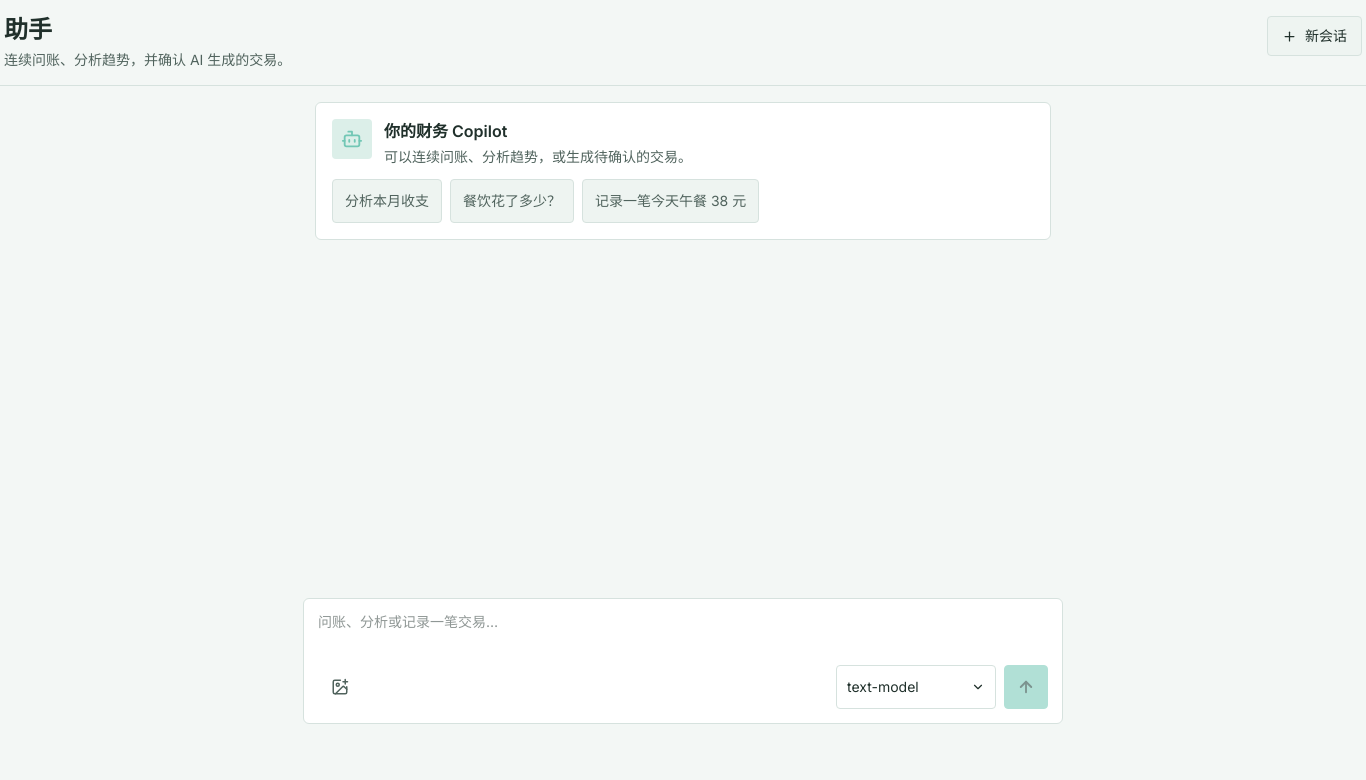
Test case: AiHubView › shows invalid candidate errors instead of silently dropping them
Type "记录错误交易" into the text box named "输入消息" at (683, 635), box [318,613,1048,657]
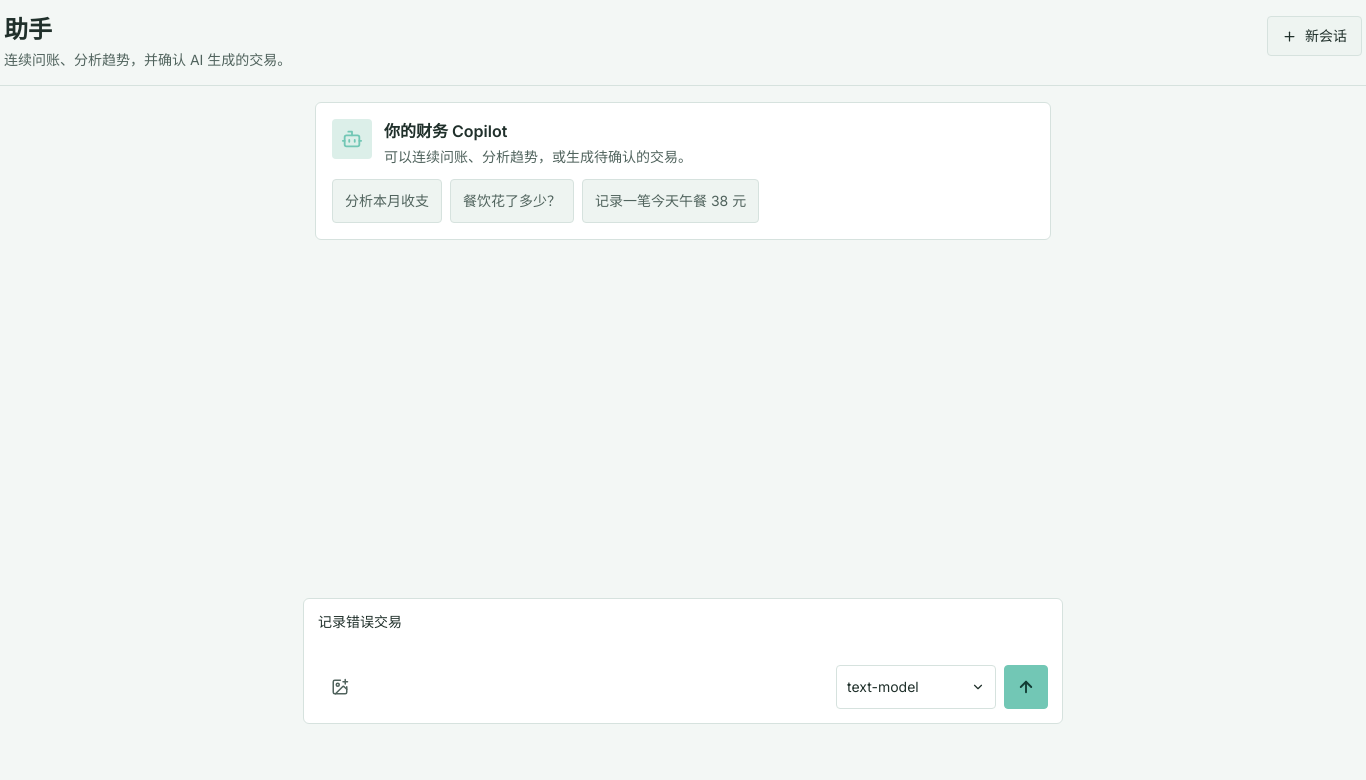
Click the button named "发送" at (1026, 687), box [1004,665,1048,709]
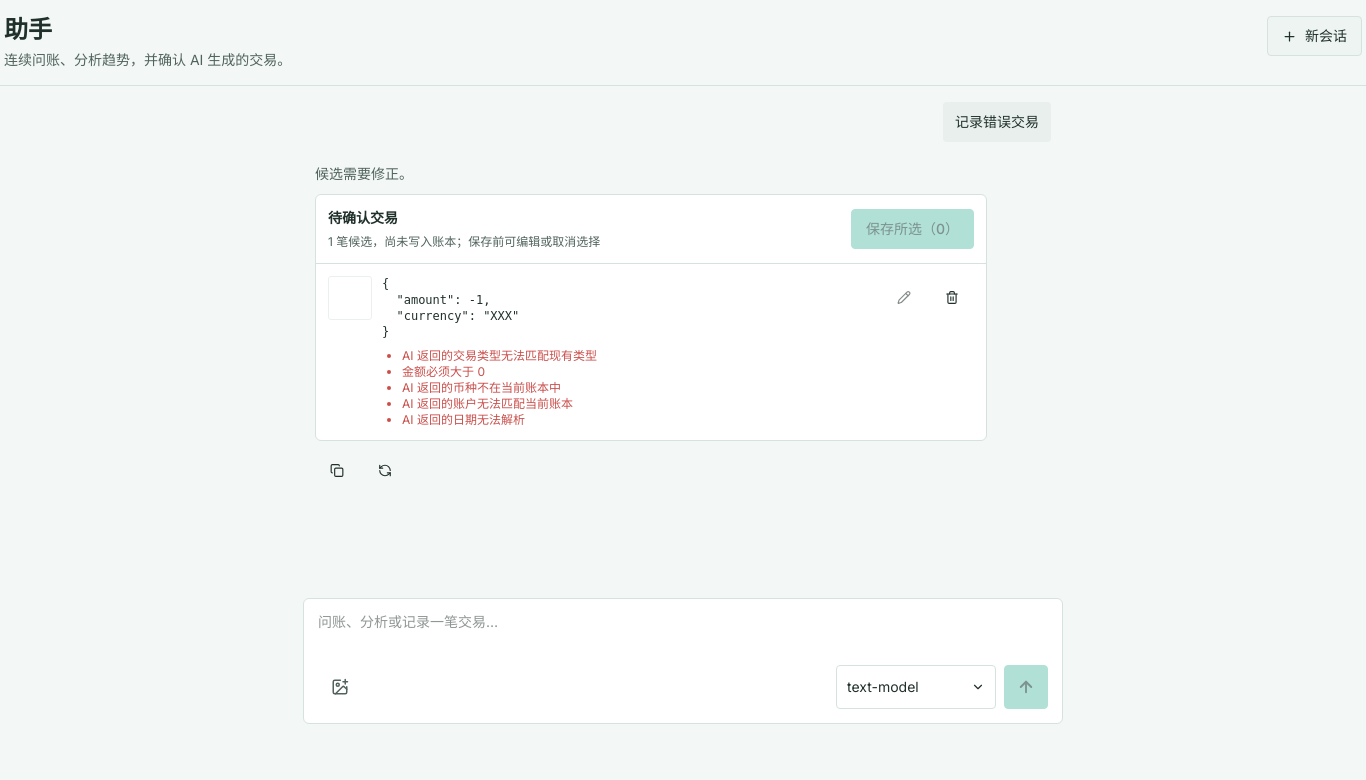
Result: the list item "金额必须大于 0" is shown at [402,364,485,379]
Result: the list item "AI 返回的账户无法匹配当前账本" is shown at [402,396,573,411]
Result: the button "保存所选（0）" is disabled at [851,209,974,249]
